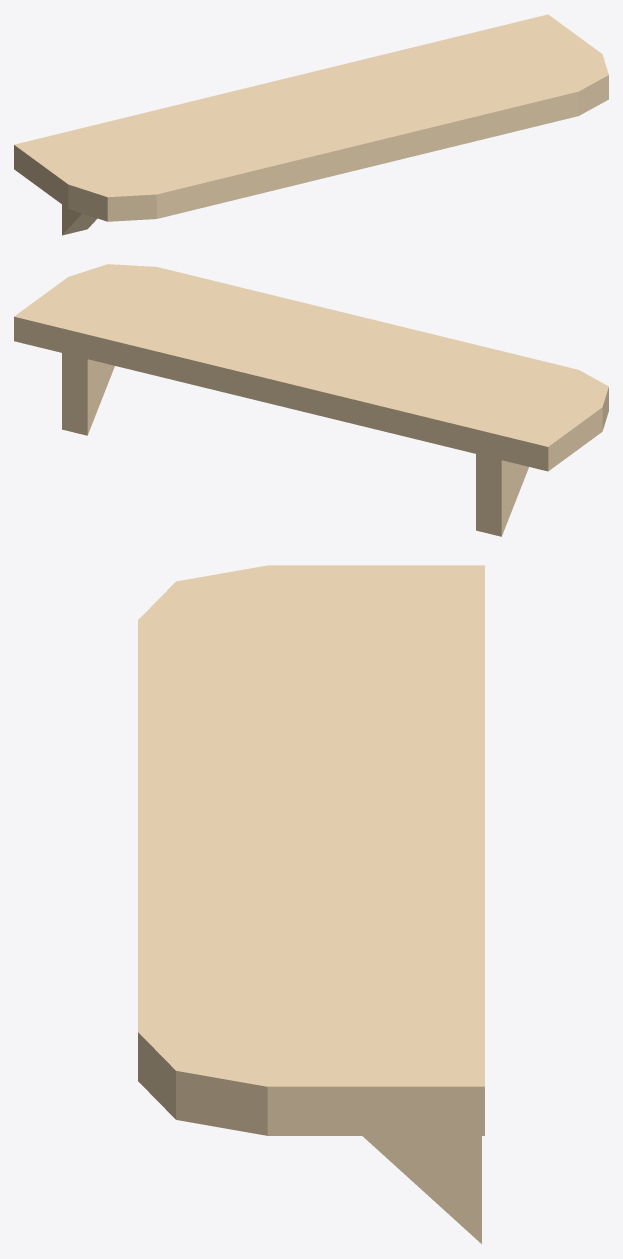
The model's file is Shelf.fbx.
The picture shows the model from 3 angles, top to bottom: view 1: azimuth 30°, elevation 25°; view 2: azimuth 150°, elevation 25°; view 3: azimuth 270°, elevation 25°; orthographic projection. The views are drawn at different scales.
Parts seen in each view (by area): view 1: Shelf_01_Plane.005; view 2: Shelf_01_Plane.005; view 3: Shelf_01_Plane.005.
Boxes of the visible parts, box(x1,y1,x2,y2) form: Shelf_01_Plane.005: box(14, 14, 608, 235); Shelf_01_Plane.005: box(14, 264, 608, 536); Shelf_01_Plane.005: box(138, 565, 484, 1243).
Bounding box in the file's own units: 987 × 180 × 278.
